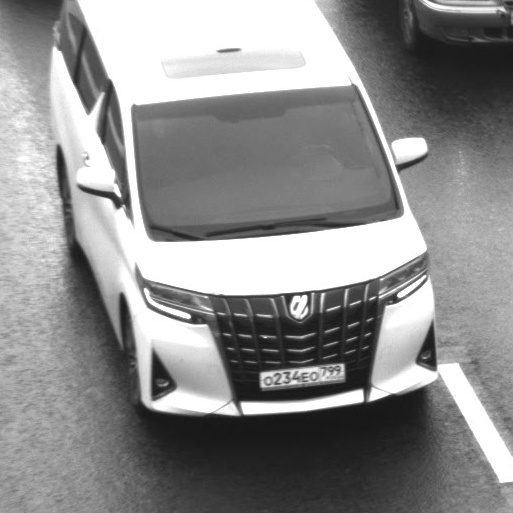plate: (250, 350, 353, 395)
